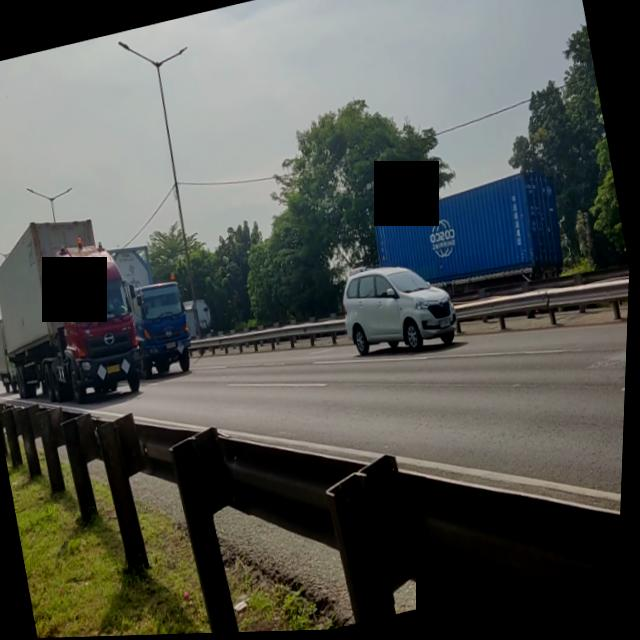Golongan I: (330, 245, 466, 370)
Golongan V: (0, 213, 157, 420)
